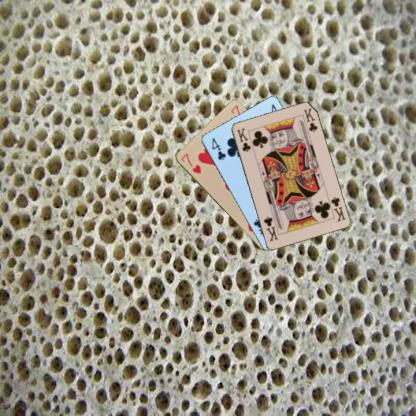4c: (209, 135, 227, 161)
7h: (178, 151, 202, 175)
Kc: (328, 194, 346, 223), (234, 125, 252, 153)
